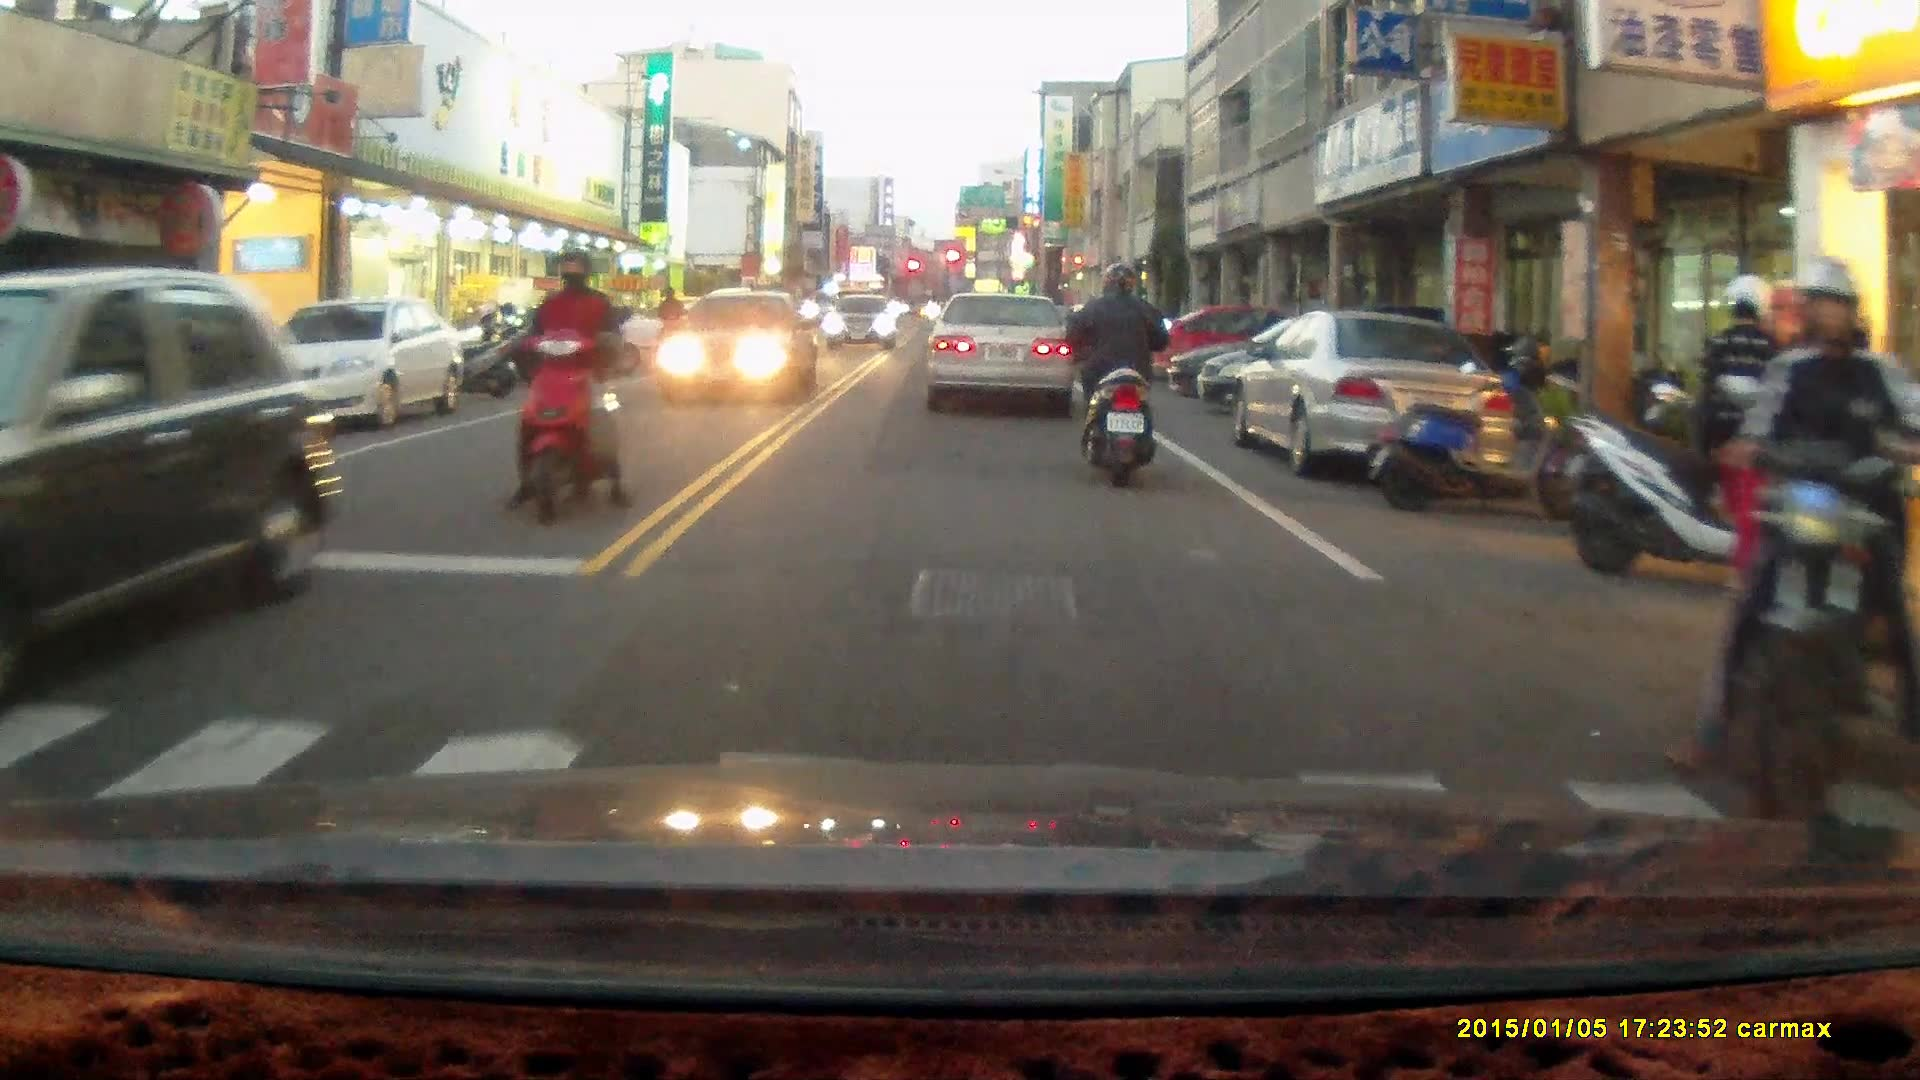pedestrian: (1699, 270, 1794, 602), (652, 284, 682, 355)
rider: (1680, 252, 1915, 832), (501, 246, 632, 522), (1066, 253, 1176, 480)
vehicle: (1, 268, 350, 686), (1228, 308, 1519, 482), (242, 294, 472, 429), (925, 290, 1079, 419), (659, 286, 819, 406), (1144, 294, 1362, 379), (822, 288, 899, 347)
